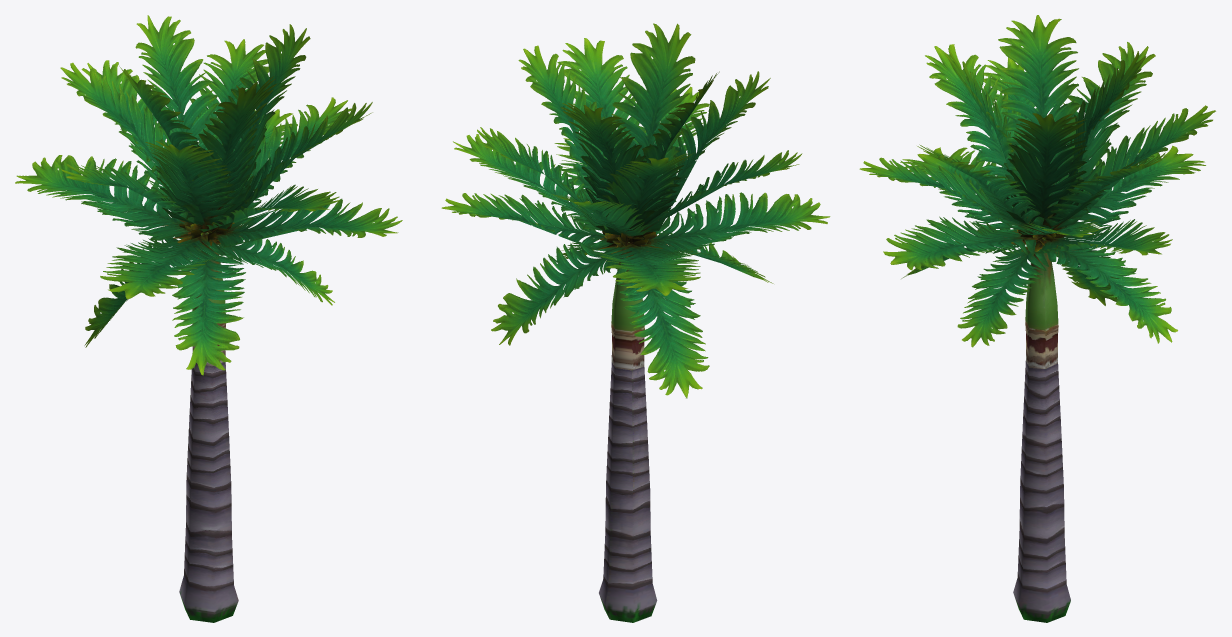
The model's file is furni_0200802.FBX.
3 renders of one model, left to right at view 1: azimuth 30°, elevation 25°; view 2: azimuth 150°, elevation 25°; view 3: azimuth 270°, elevation 25°, orthographic. The views are drawn at different scales.
Visible parts, largest first — view 1: furni_0200802; view 2: furni_0200802; view 3: furni_0200802.
Part boxes in pixels (x1,y1,x2,y2): furni_0200802: [15, 15, 402, 622]; furni_0200802: [441, 23, 830, 622]; furni_0200802: [859, 15, 1215, 622].
Bounding box in the file's own units: 343 × 587 × 338.
1 material, 1 textured.
